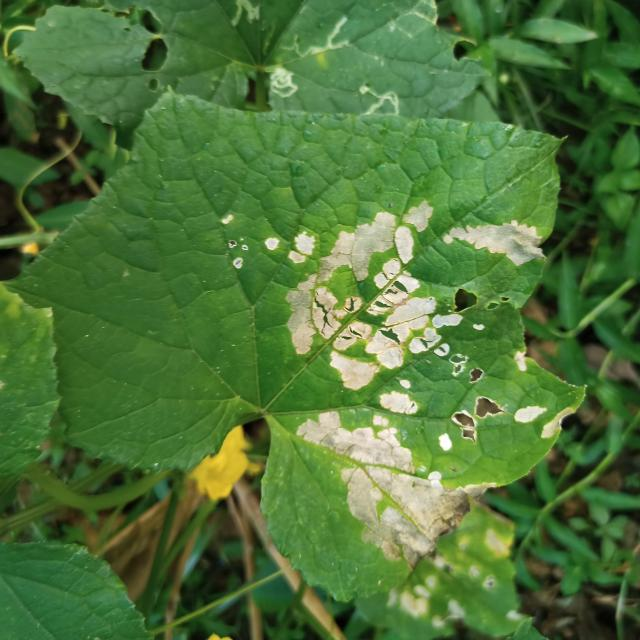disease_cucumber: (261, 200, 548, 390), (289, 389, 574, 562), (213, 212, 252, 277)
